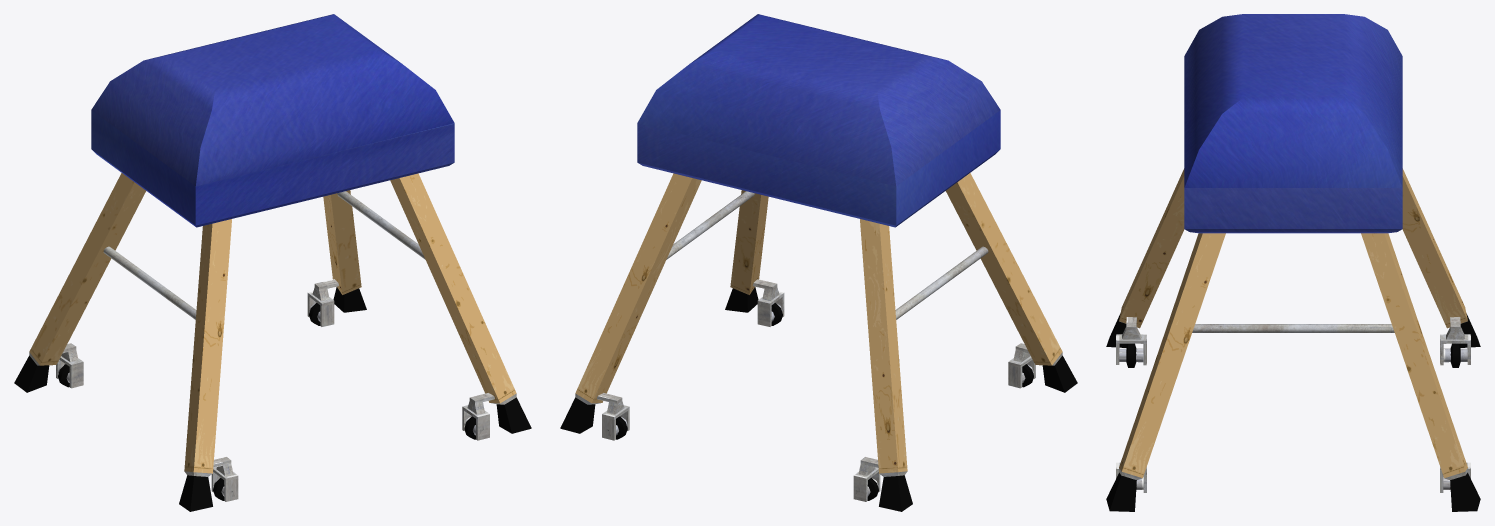
The model's file is hoppblock.fbx.
3 views of the same model, side by side, from view 1: azimuth 30°, elevation 25°; view 2: azimuth 150°, elevation 25°; view 3: azimuth 270°, elevation 25° (orthographic). The views are drawn at different scales.
Parts seen in each view (by area): view 1: hoppblock; view 2: hoppblock; view 3: hoppblock.
Boxes of the visible parts, x1=… form: hoppblock: x1=14, y1=14, x2=531, y2=511; hoppblock: x1=560, y1=14, x2=1077, y2=511; hoppblock: x1=1106, y1=14, x2=1480, y2=511.
Bounding box in the file's own units: 14.01 × 14.05 × 12.73.
